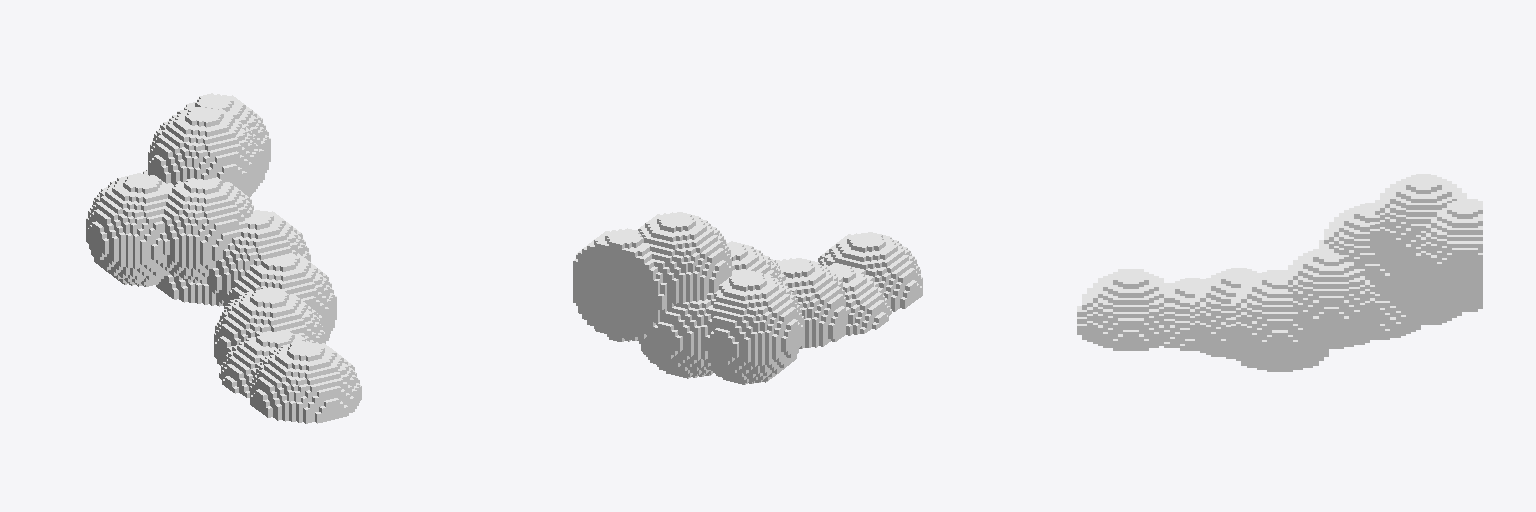
The model's file is maps1demo-6.obj.
3 renders of one model, left to right at view 1: azimuth 30°, elevation 25°; view 2: azimuth 150°, elevation 25°; view 3: azimuth 270°, elevation 25°, orthographic.
Visible parts, largest first — view 1: object 1; view 2: object 1; view 3: object 1.
Boxes of the visible parts, x1=… form: object 1: x1=86, y1=93, x2=361, y2=423; object 1: x1=573, y1=212, x2=922, y2=384; object 1: x1=1077, y1=174, x2=1482, y2=371.
Size of the model in its own units: 4.2 by 3.6 by 7.9.